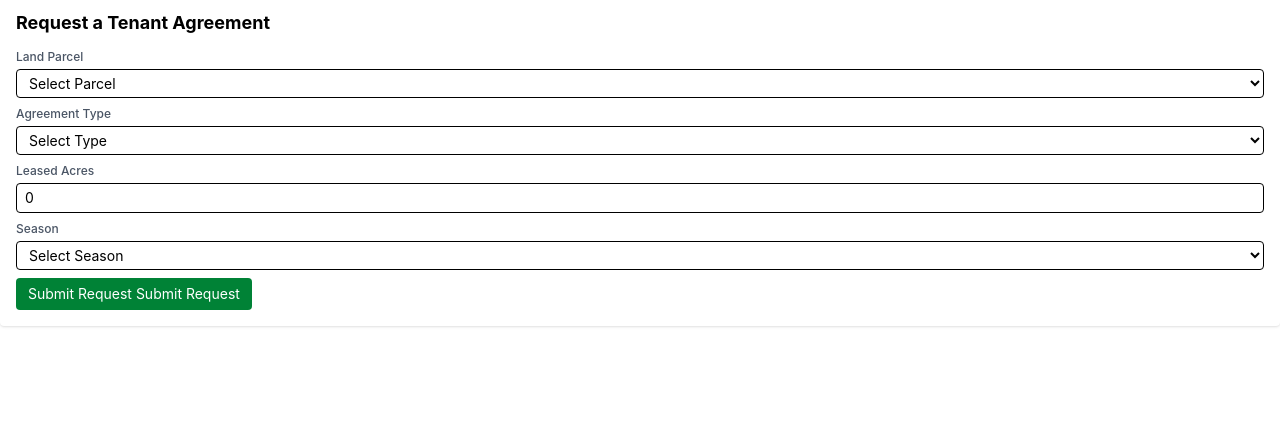
Scenario: RequestAgreementForm.vue › surfaces the backend's non_field_errors message on failure without resetting the form
The image size is (1280, 430).
Select "p1" in the 1st dropdown at point(640, 84), box [16,69,1264,98]
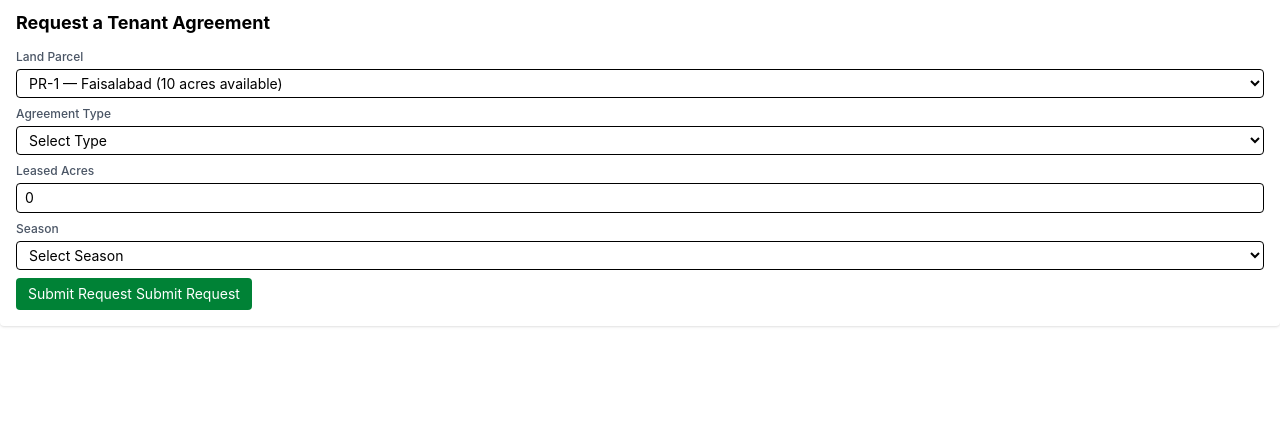
Select "Theka (Fixed Rent)" in the 2nd dropdown at point(640, 140), box [16,126,1264,155]
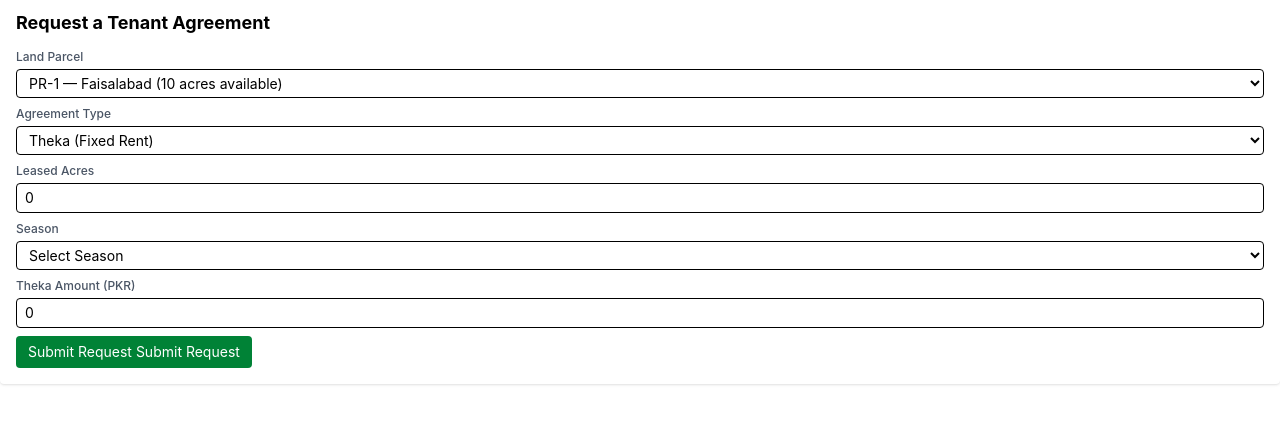
Replace the text in the 1st number field with "5" at point(640, 198), box [16,183,1264,213]
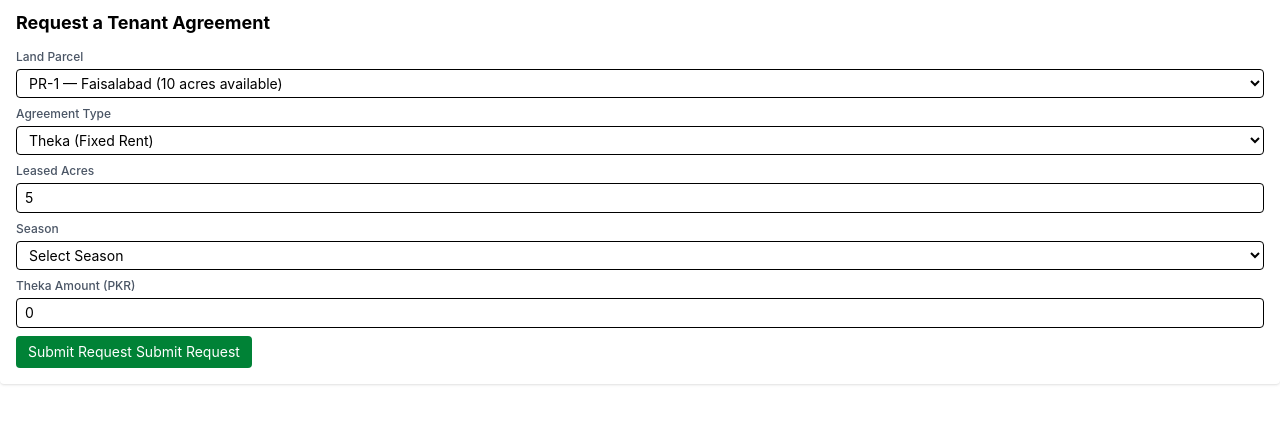
Select "Rabi" in the 3rd dropdown at point(640, 256), box [16,241,1264,270]
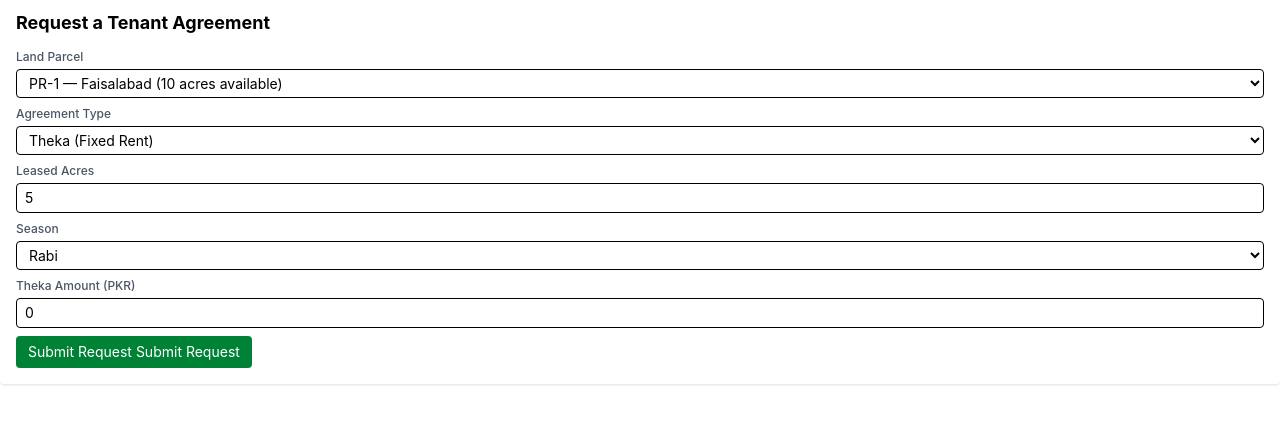
Replace the text in the 2nd number field with "50000" at point(640, 313), box [16,298,1264,328]
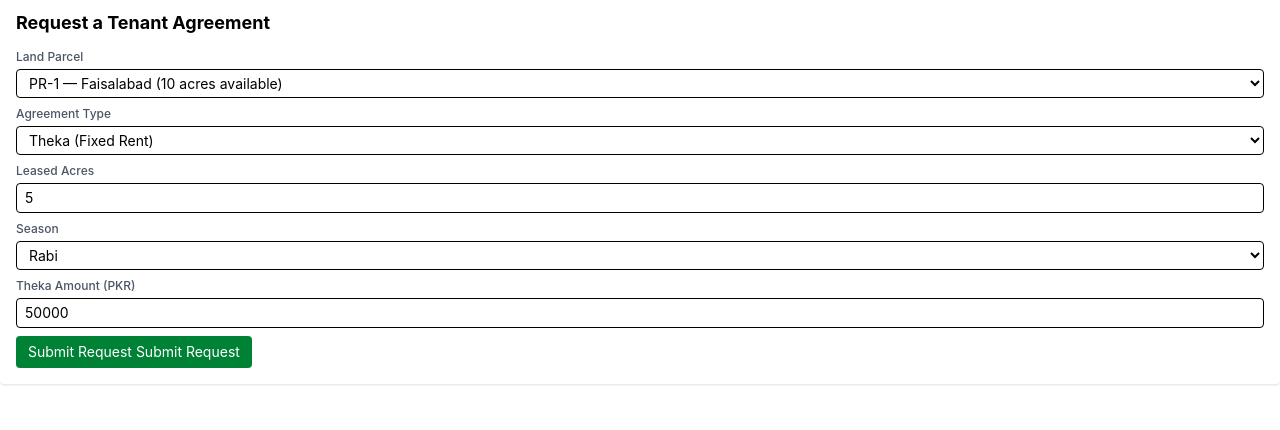
Click the button "Submit Request Submit Request" at point(134, 352), box [16,336,252,368]
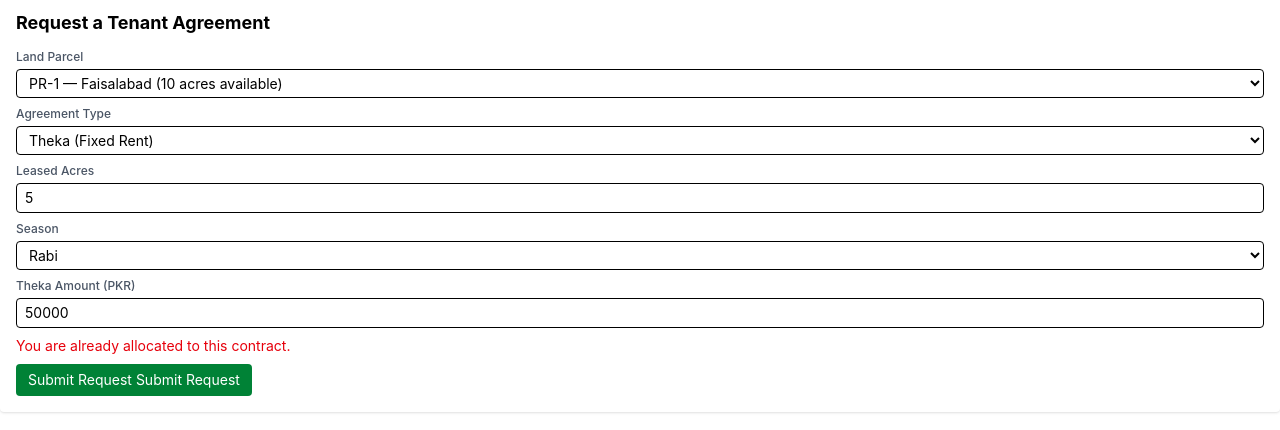
Expected: the text "You are already allocated to this contract." is shown, [16,337,290,354]
